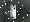person: (8, 6, 16, 20)
